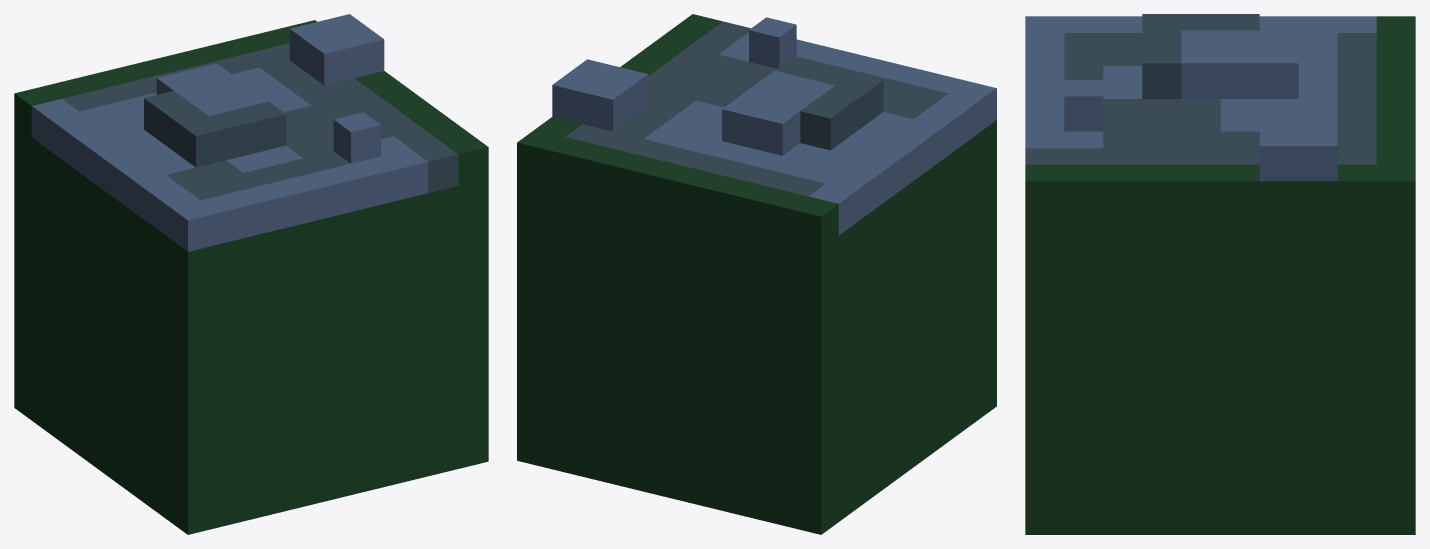
The model's file is Floor 6.obj.
3 views of the same model, side by side, from view 1: azimuth 30°, elevation 25°; view 2: azimuth 150°, elevation 25°; view 3: azimuth 270°, elevation 25° (orthographic). The views are drawn at different scales.
Size of the model in its own units: 10 by 11 by 10.
1 material, 1 textured.
